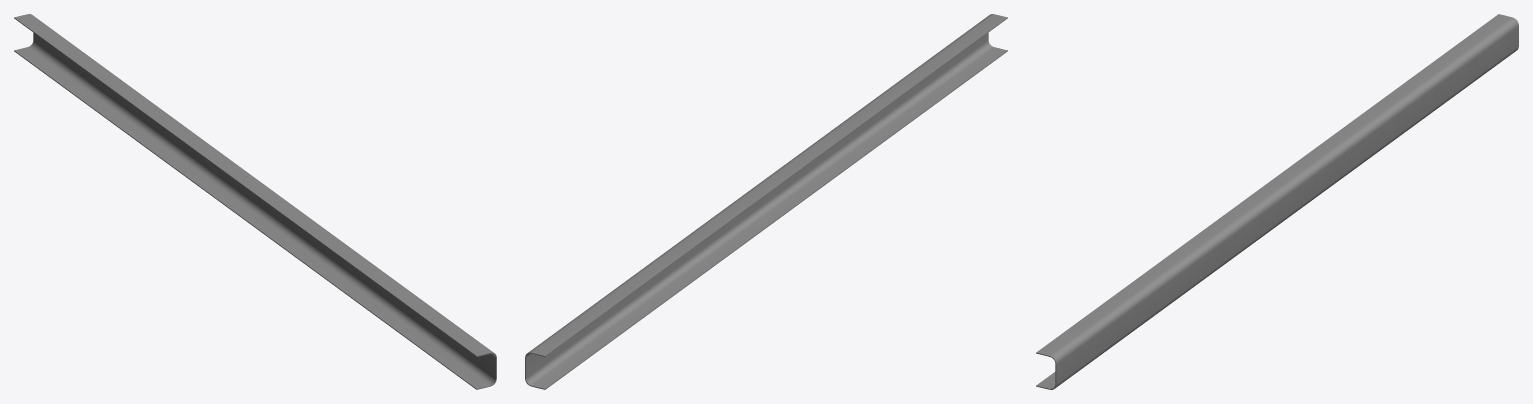
File: C&J HANDLE.glb
The picture shows the model from 3 angles, left to right: view 1: azimuth 30°, elevation 25°; view 2: azimuth 150°, elevation 25°; view 3: azimuth 330°, elevation 25°; orthographic projection.
Visible parts, largest first — view 1: Line2132554140; view 2: Line2132554140; view 3: Line2132554140.
Part boxes in pixels (<box>): Line2132554140: <box>14,14,496,389</box>; Line2132554140: <box>525,14,1007,389</box>; Line2132554140: <box>1036,14,1518,389</box>.
Bounding box in the file's own units: 0.0229 × 0.0369 × 0.9124.
1 material, 1 textured.
